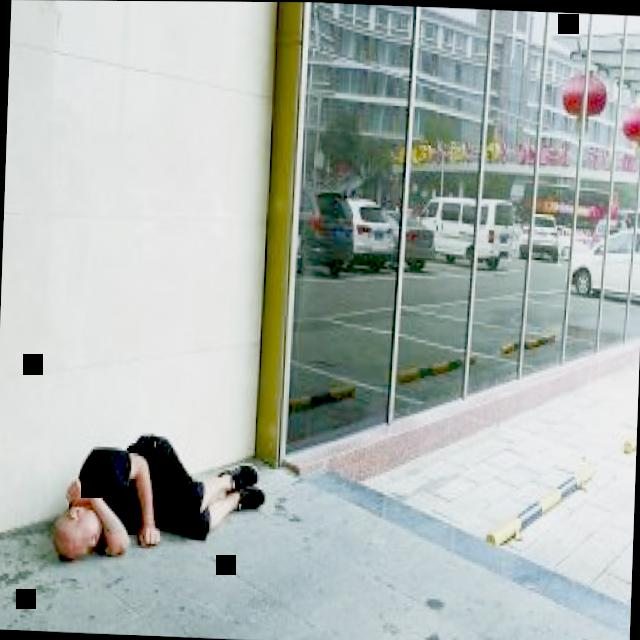Fall-Detected: (39, 413, 276, 574)
